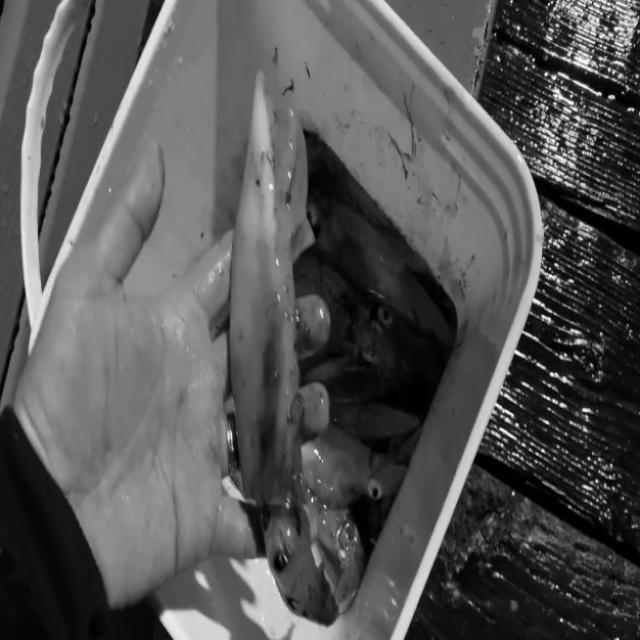SQUID: (206, 45, 339, 589)
